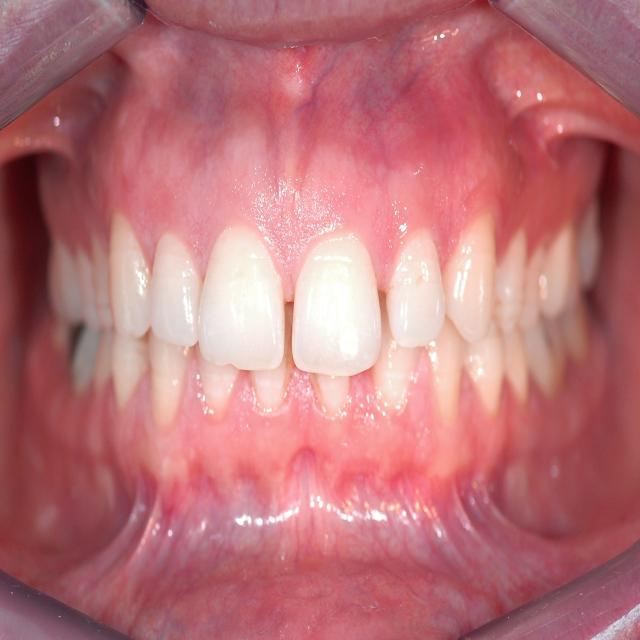tooth: (288, 232, 387, 382), (205, 233, 283, 371), (391, 228, 447, 344), (149, 233, 204, 349), (108, 225, 148, 338), (454, 230, 499, 322), (433, 334, 464, 411), (500, 230, 527, 316), (252, 364, 287, 426), (206, 361, 236, 430), (160, 351, 186, 424), (385, 349, 411, 411), (320, 373, 348, 414)
